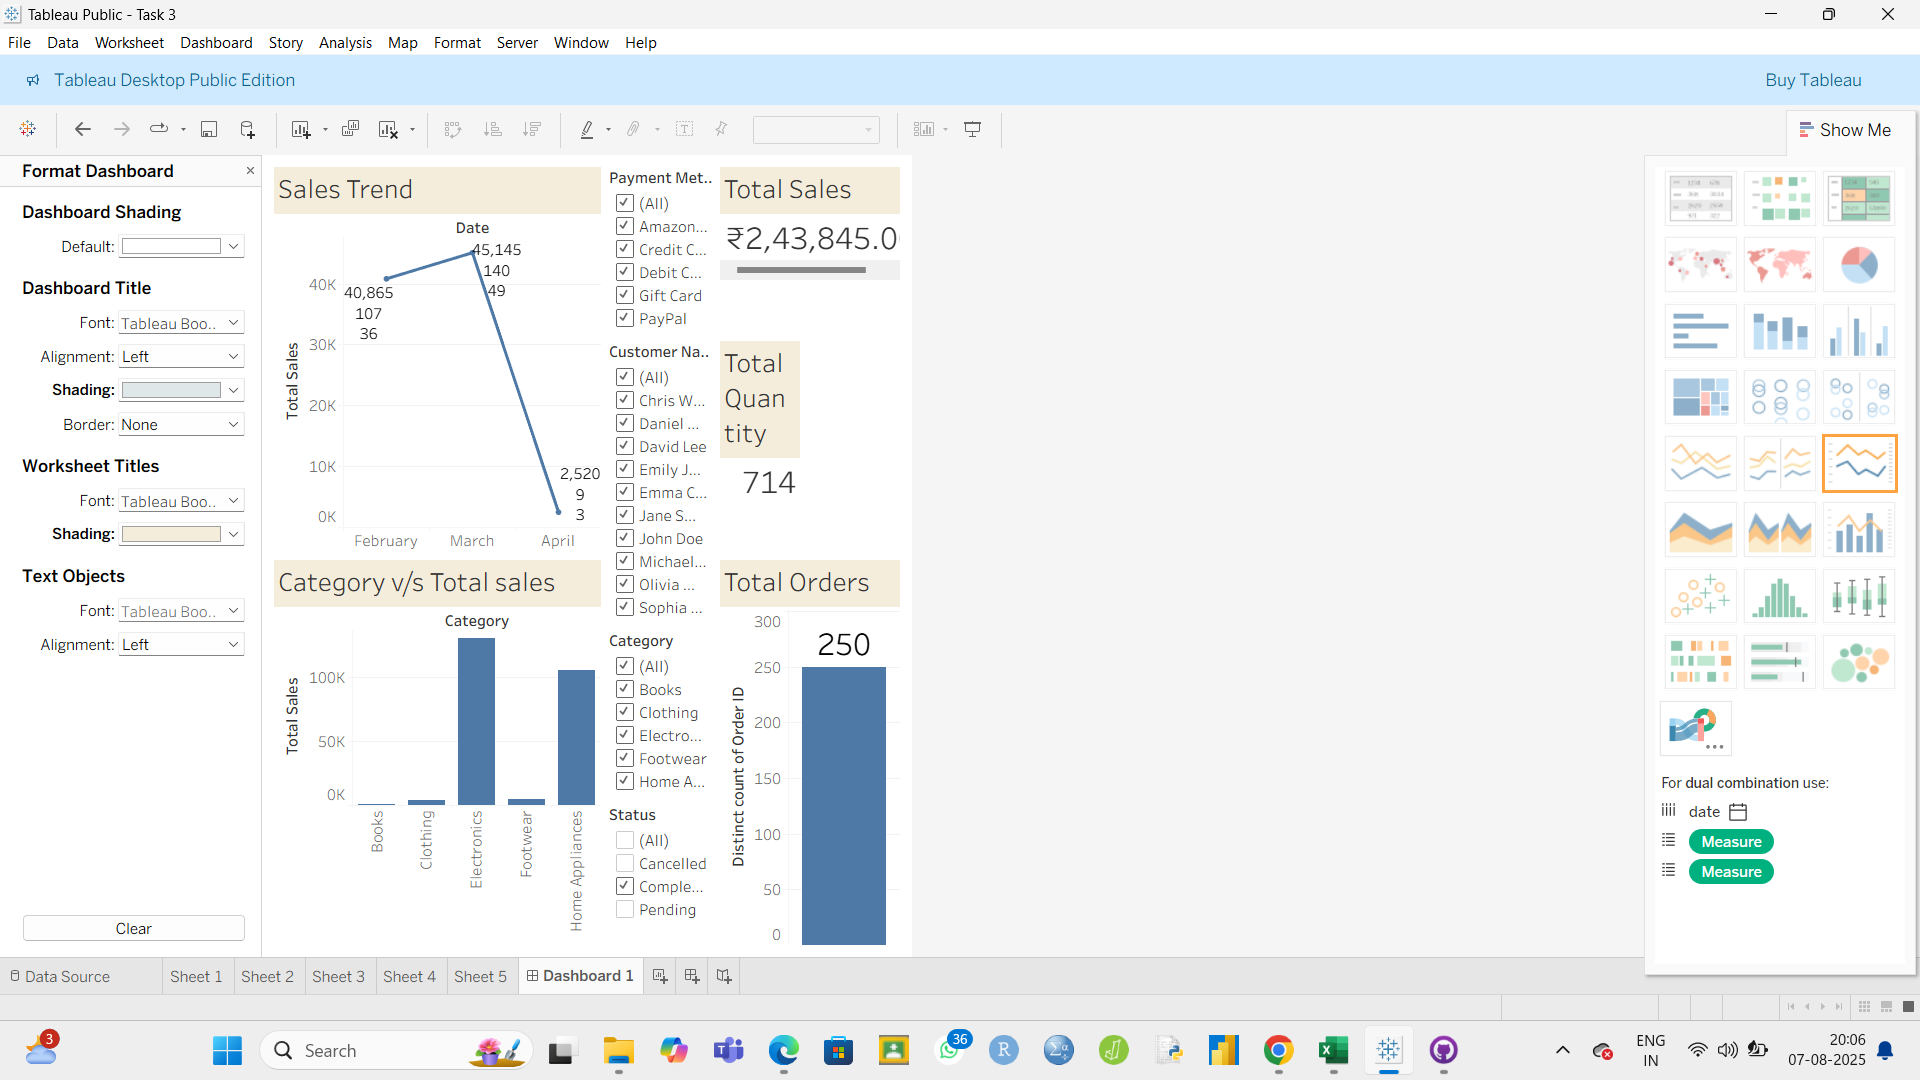

Layout of this report page (visuals, bound fields, positions):
{"tool":"tableau","page":{"name":"Dashboard 1","canvas":[650,860],"ordinal":0},"visuals":[{"type":"worksheet","title":"Sheet 1","mark":"Automatic","rows":["Total Sales"],"cols":["Date"],"box":[8,8.6,335,421.4]},{"type":"filter","title":"Sheet 1","param":"[federated.137udn61he6bti1h0a3rq1cnw7c8].[none:Payment Method:nk]","box":[343,8.6,111,186.6]},{"type":"worksheet","title":"Sheet 3","mark":"Automatic","box":[454,8.6,188,186.6]},{"type":"filter","title":"Sheet 1","param":"[federated.137udn61he6bti1h0a3rq1cnw7c8].[none:Customer Name:nk]","box":[343,195.2,111,309.9]},{"type":"worksheet","title":"Sheet 5","mark":"Automatic","box":[454,195.2,188,234.8]},{"type":"worksheet","title":"Sheet 2","mark":"Automatic","rows":["Total Sales"],"cols":["Category"],"box":[8,430,335,421.4]},{"type":"worksheet","title":"Sheet 4","mark":"Automatic","rows":["Order ID"],"box":[454,430,188,421.4]},{"type":"filter","title":"Sheet 1","param":"[federated.137udn61he6bti1h0a3rq1cnw7c8].[none:Category:nk]","box":[343,505.1,111,186.6]},{"type":"filter","title":"Sheet 1","param":"[federated.137udn61he6bti1h0a3rq1cnw7c8].[none:Status:nk]","box":[343,691.7,111,137.3]}]}

Visuals, with their boxes on the page's 650x860 design canvas (x1, y1, x2, y2). These are canvas units, not pixel positions in the 1920x1080 screenshot, which may show the page scaled, cropped or inside an application window:
"Sheet 1" worksheet: [left=8, top=9, right=343, bottom=430]
"Sheet 1" filter: [left=343, top=9, right=454, bottom=195]
"Sheet 3" worksheet: [left=454, top=9, right=642, bottom=195]
"Sheet 1" filter: [left=343, top=195, right=454, bottom=505]
"Sheet 5" worksheet: [left=454, top=195, right=642, bottom=430]
"Sheet 2" worksheet: [left=8, top=430, right=343, bottom=851]
"Sheet 4" worksheet: [left=454, top=430, right=642, bottom=851]
"Sheet 1" filter: [left=343, top=505, right=454, bottom=692]
"Sheet 1" filter: [left=343, top=692, right=454, bottom=829]
